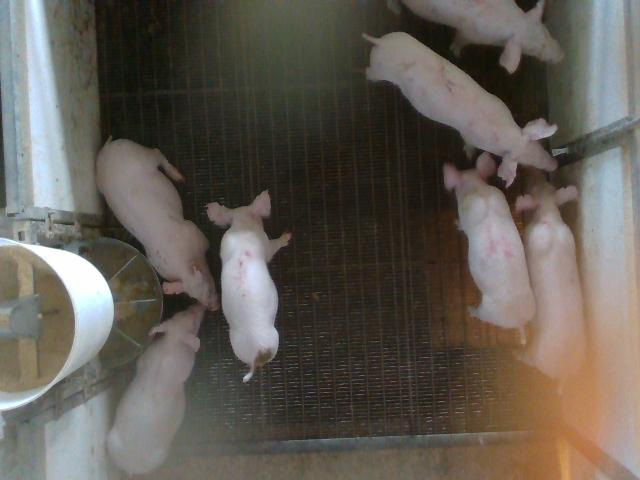pig-4: (444, 152, 535, 343)
pig-5: (208, 191, 291, 382)
